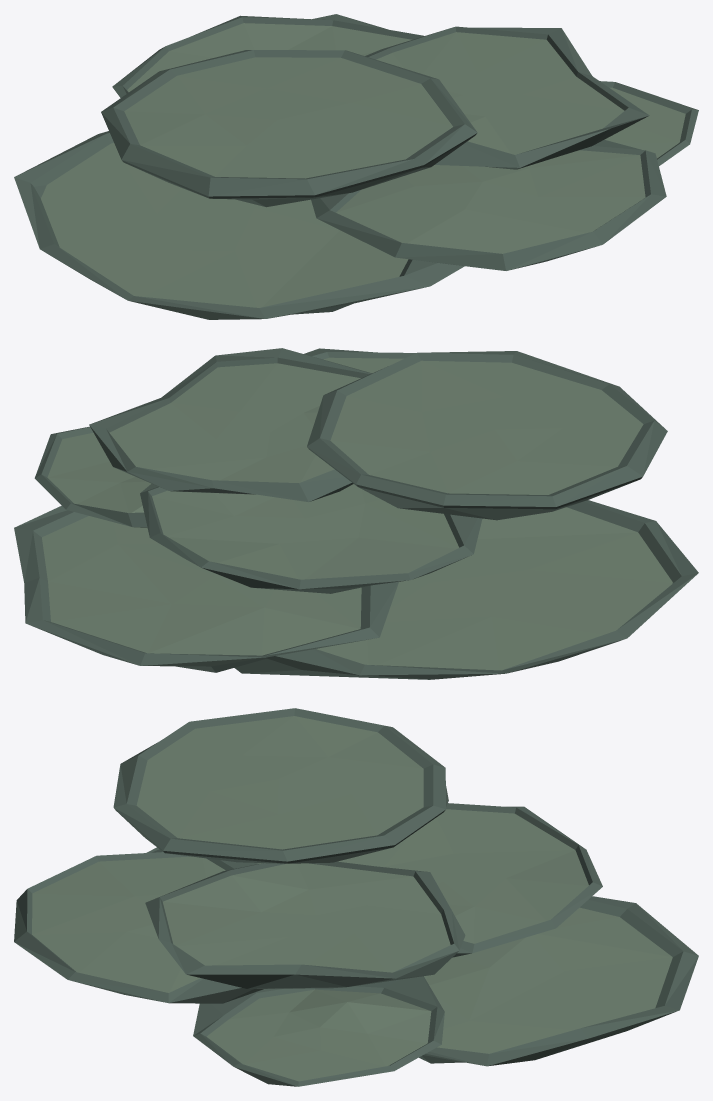
Rendered from coral-shelf.glb.
The picture shows the model from 3 angles, top to bottom: view 1: azimuth 30°, elevation 25°; view 2: azimuth 150°, elevation 25°; view 3: azimuth 270°, elevation 25°; orthographic projection. The views are drawn at different scales.
Visible parts, largest first — view 1: coral-shelf; view 2: coral-shelf; view 3: coral-shelf.
Part boxes in pixels (x1=…): coral-shelf: x1=14, y1=14, x2=698, y2=319; coral-shelf: x1=14, y1=348, x2=698, y2=679; coral-shelf: x1=14, y1=708, x2=698, y2=1086.
Bounding box in the file's own units: 0.9255 × 0.2823 × 0.9062.
1 material, 1 textured.
